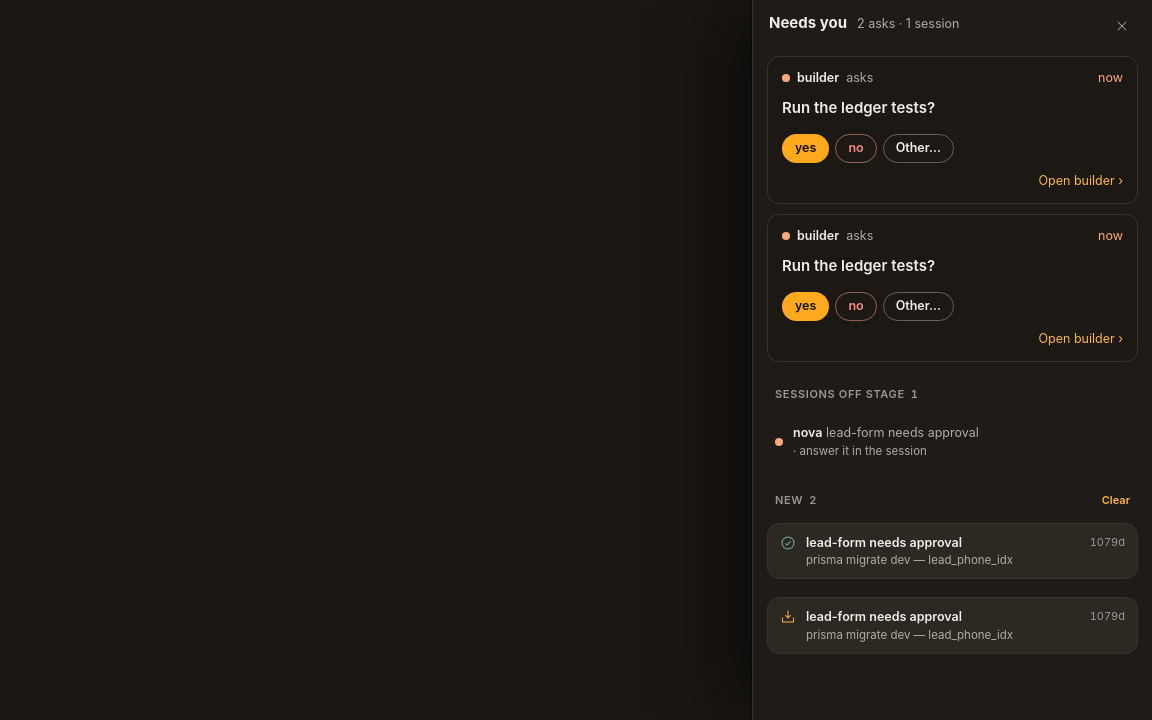
Test: InboxDrawer (HIVE-198) › Clear empties New and leaves what waits on you (HIVE-231)
This screenshot has width=1152, height=720.
Click the button with aria-label "Clear the news".
click(1116, 500)  # box 1102,492 -> 1130,508
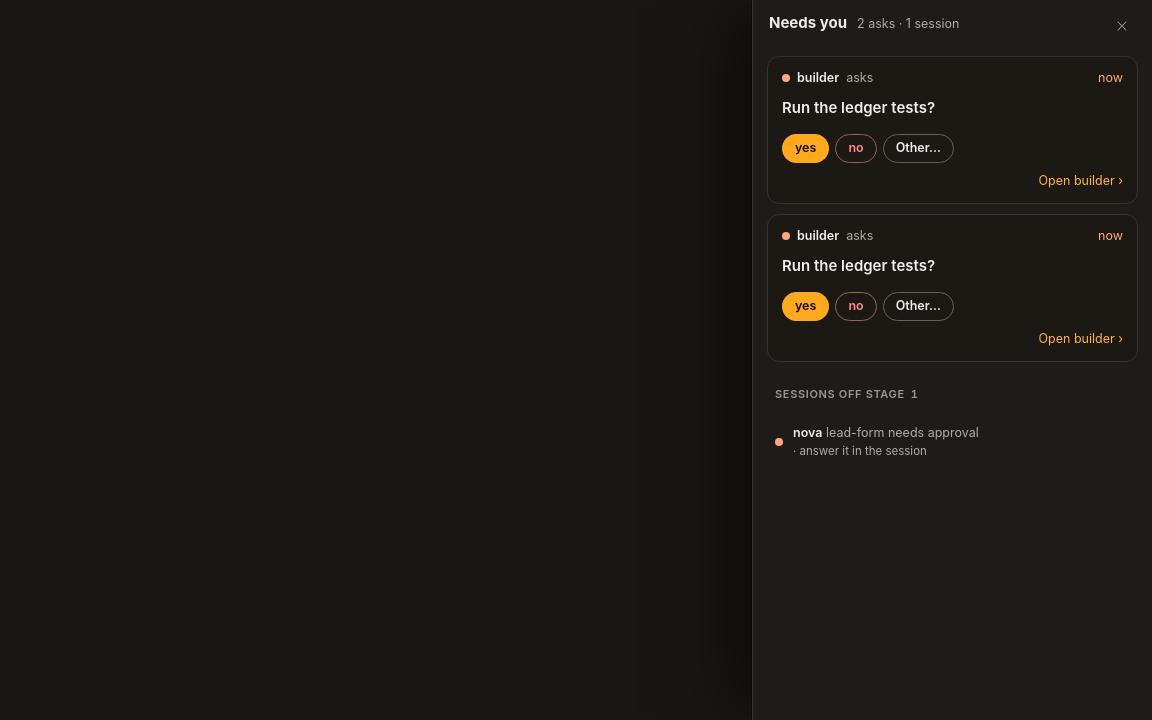
Check: the text "New" is gone
